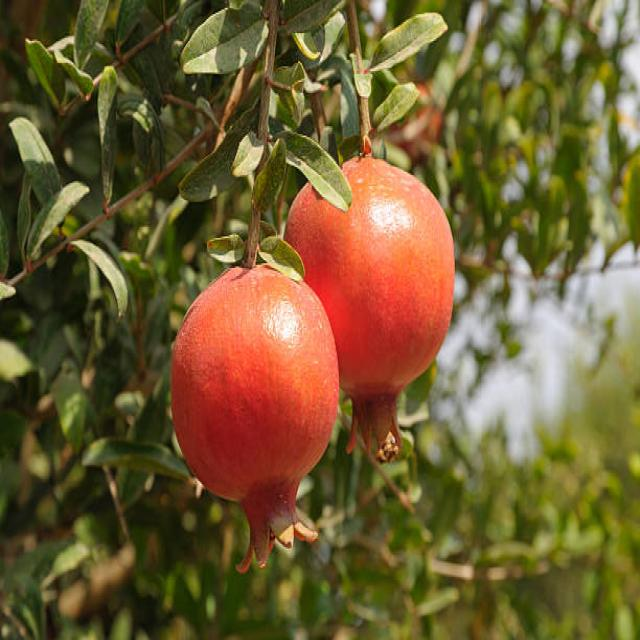Ripe: (167, 255, 343, 572), (288, 151, 454, 466)
